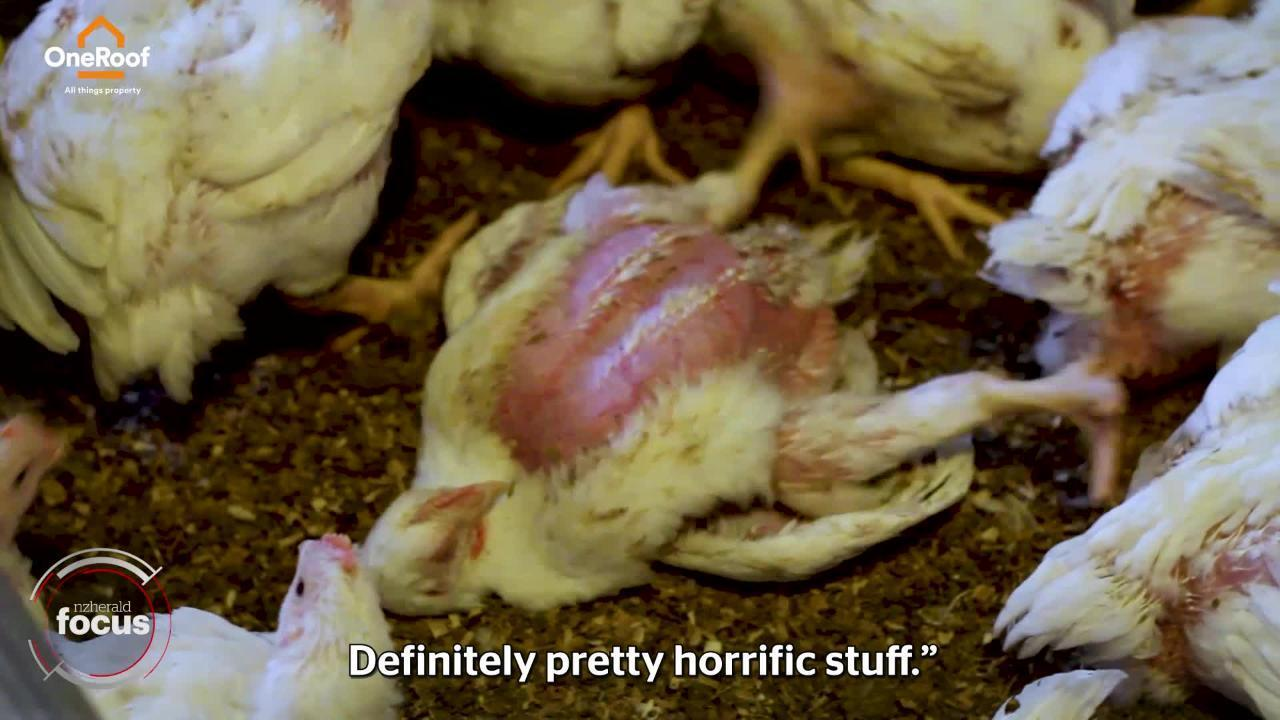AbNormal: (369, 179, 1058, 619), (995, 353, 1280, 720), (1005, 16, 1280, 378)
